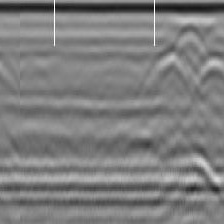Utility: (144, 22, 224, 103)
